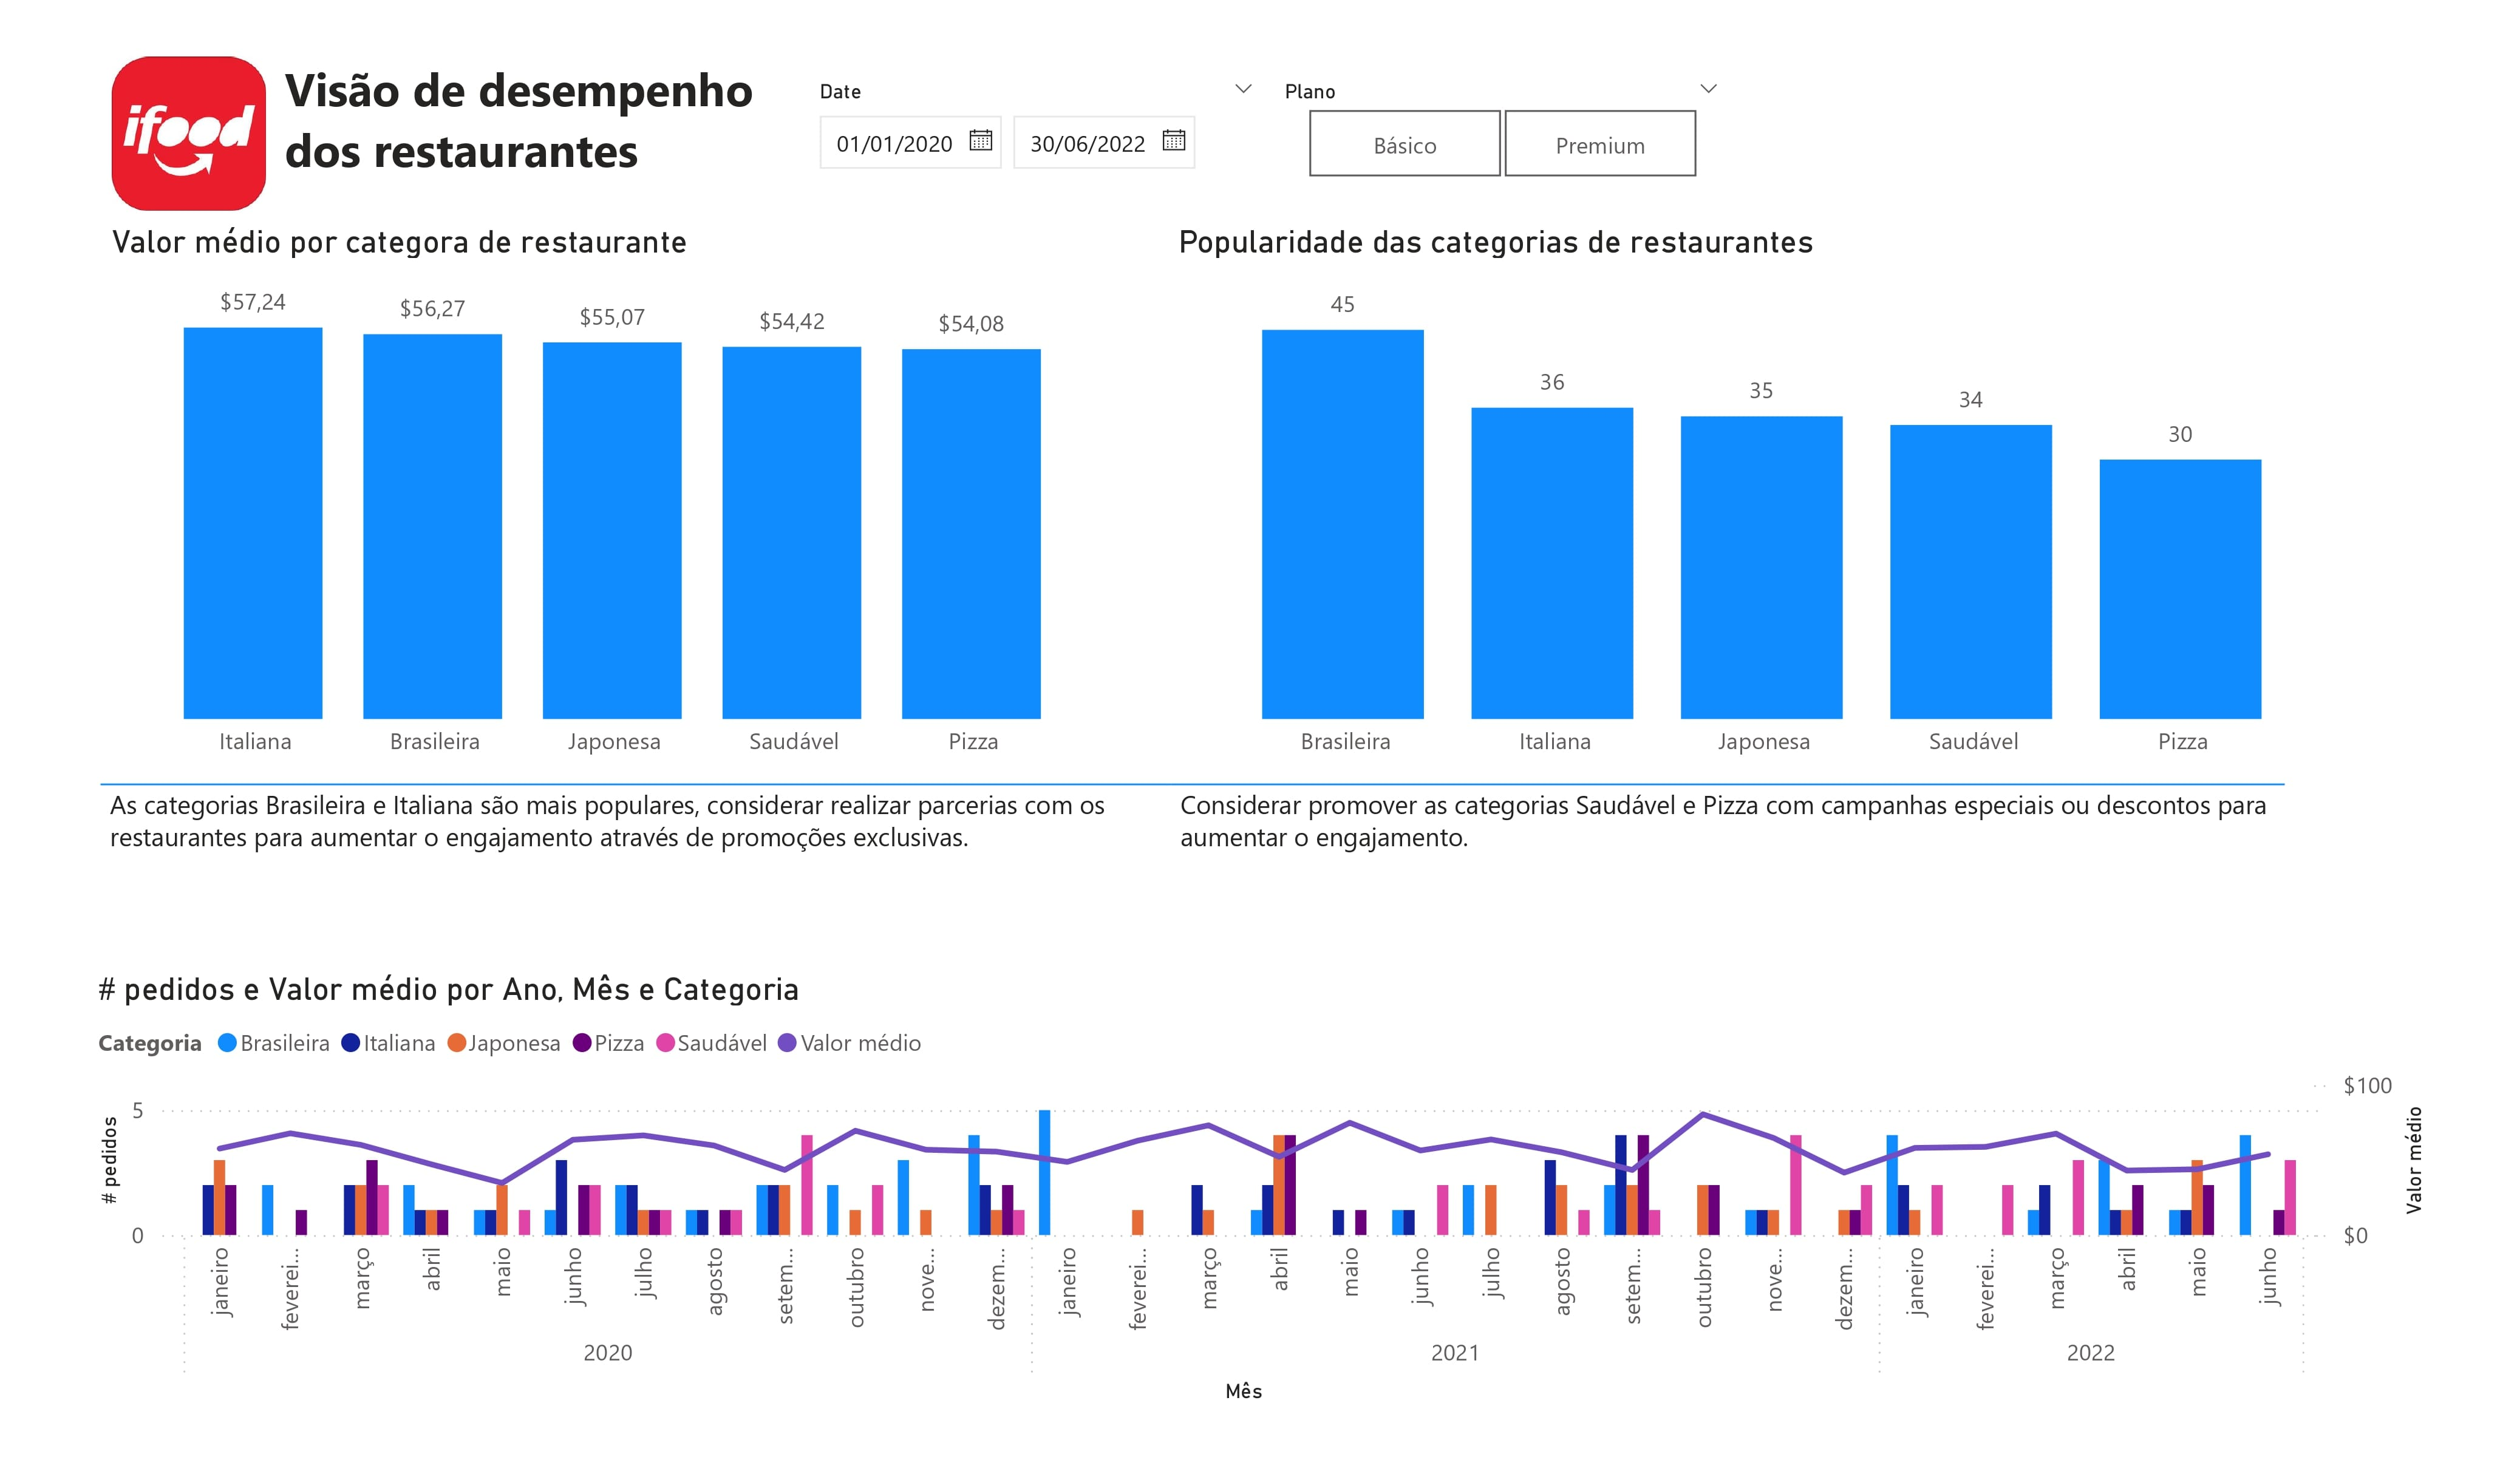

The page's visual inventory and layout, read from the dashboard file:
{"tool":"powerbi","page":{"name":"Restaurantes","canvas":[1280,720],"ordinal":2},"visuals":[{"type":"tableEx","fields":{"Values":["Tabela 1 (clientes).3 Texto","Tabela 1 (clientes).4 Texto"]},"box":[22.6,360,1235.3,87.5],"z":0},{"type":"clusteredColumnChart","title":"Valor médio por categora de restaurante","fields":{"Y":["Avg(Tabela 2 (transacoes).valor)"],"Category":["Tabela 2 (transacoes).categoria"]},"box":[29.6,93.2,540.7,292.2],"z":1000},{"type":"columnChart","title":"Popularidade das categorias de restaurantes","fields":{"Y":["CountNonNull(Tabela 2 (transacoes).id_cliente)"],"Category":["Tabela 2 (transacoes).categoria"]},"box":[591.5,93.2,628.2,292.2],"z":2000},{"type":"slicer","fields":{"Values":["TabelaDatas.Date"]},"box":[395.3,12.7,254.1,63.5],"z":3000},{"type":"lineClusteredColumnComboChart","fields":{"Category":["TabelaDatas.Date.Variation.Hierarquia de datas.Ano","TabelaDatas.Date.Variation.Hierarquia de datas.Mês"],"Series":["Tabela 2 (transacoes).categoria"],"Y":["CountNonNull(Tabela 2 (transacoes).id_cliente)"],"Y2":["Avg(Tabela 2 (transacoes).valor)"]},"box":[22.6,487.1,1236.7,232.9],"z":4000},{"type":"slicer","fields":{"Values":["Tabela 1 (clientes).plano_clube"]},"box":[639.5,12.7,254.1,63.5],"z":5000},{"type":"image","box":[29.6,0,91.8,93.2],"z":6000},{"type":"textbox","box":[121.4,1.4,273.9,91.8],"z":6001}]}

Visuals, with their boxes on the page's 1280x720 design canvas (x1, y1, x2, y2). These are canvas units, not pixel positions in the 2520x1457 screenshot, which may show the page scaled, cropped or inside an application window:
tableEx - Tabela 1 (clientes).3 Texto x Tabela 1 (clientes).4 Texto: crop(23, 360, 1258, 448)
"Valor médio por categora de restaurante" clusteredColumnChart: crop(30, 93, 570, 385)
"Popularidade das categorias de restaurantes" columnChart: crop(592, 93, 1220, 385)
slicer - TabelaDatas.Date: crop(395, 13, 649, 76)
lineClusteredColumnComboChart - TabelaDatas.Date.Variation.Hierarquia de datas.Ano x TabelaDatas.Date.Variation.Hierarquia de datas.Mês: crop(23, 487, 1259, 720)
slicer - Tabela 1 (clientes).plano_clube: crop(640, 13, 894, 76)
image: crop(30, 0, 121, 93)
textbox: crop(121, 1, 395, 93)
